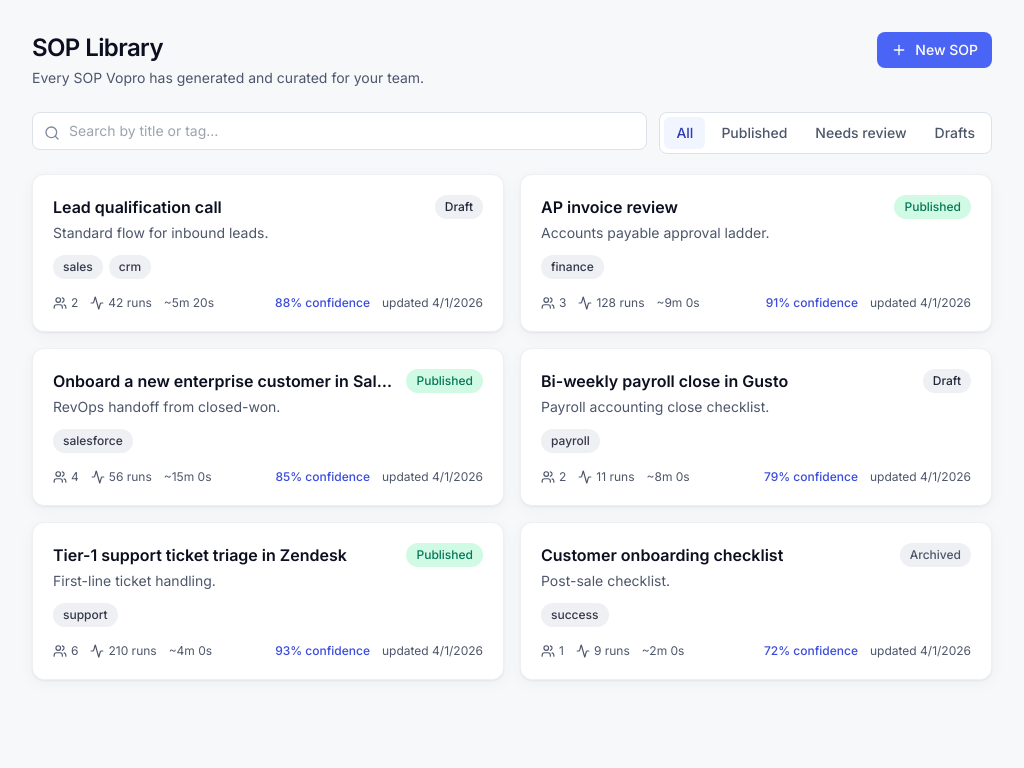
Test: SopListPage › filters by status when a tab is clicked
Check: the heading "Bi-weekly payroll close in Gusto" is shown, box [541,369,788,393]
Click the button "Drafts".
click(955, 133)  # box [923,117,987,149]
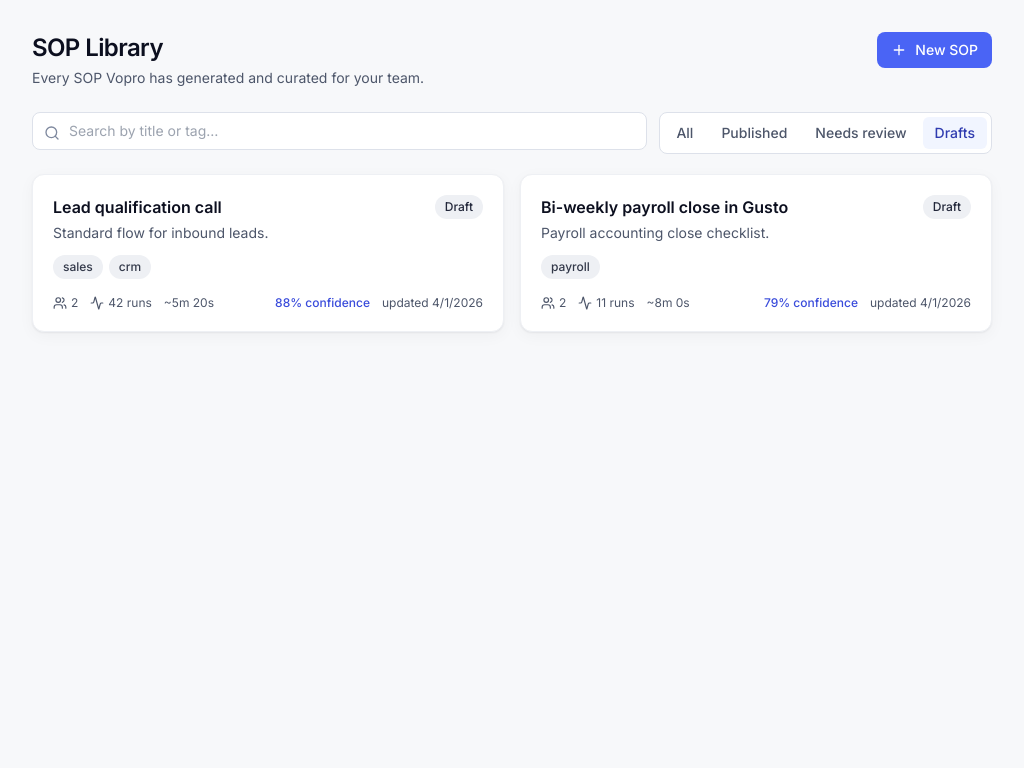
Check: the heading "Bi-weekly payroll close in Gusto" is shown, box [541,195,788,219]
Check: the link "Tier-1 support ticket triage in Zendesk" is gone
